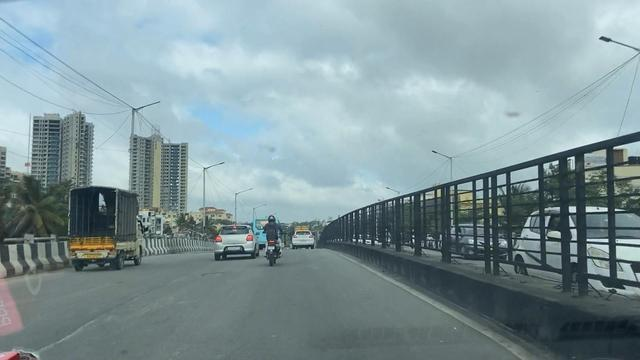HMV: (60, 182, 145, 276), (249, 203, 284, 253)
LMV: (209, 209, 262, 266), (247, 207, 289, 276), (290, 217, 322, 249)
